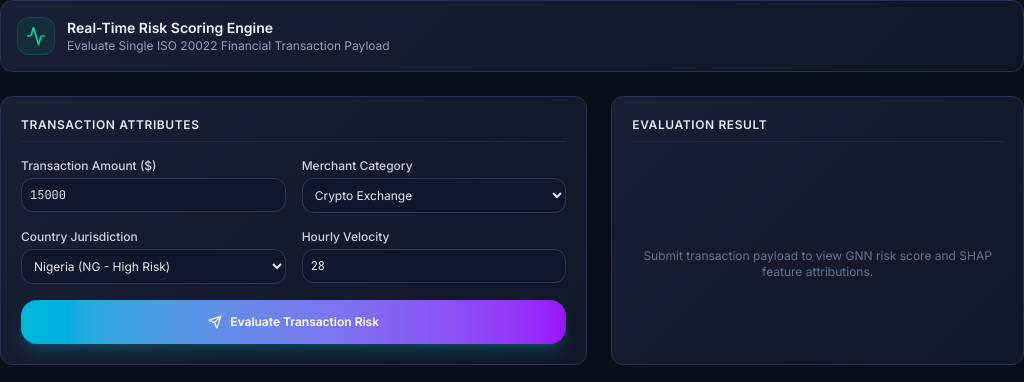
it: Predictor Component (User Interaction) › allows user to change form values and submit transaction for risk scoring
Replace the text in the number field showing "15000" below "Transaction Amount ($)" with "25000": (153, 195) [21,178,286,212]
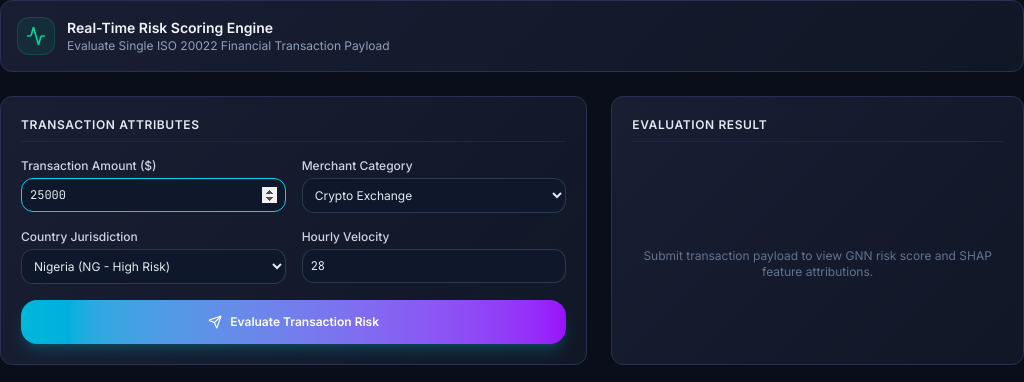
Click the button "Evaluate Transaction Risk": (294, 322) [21,300,566,344]
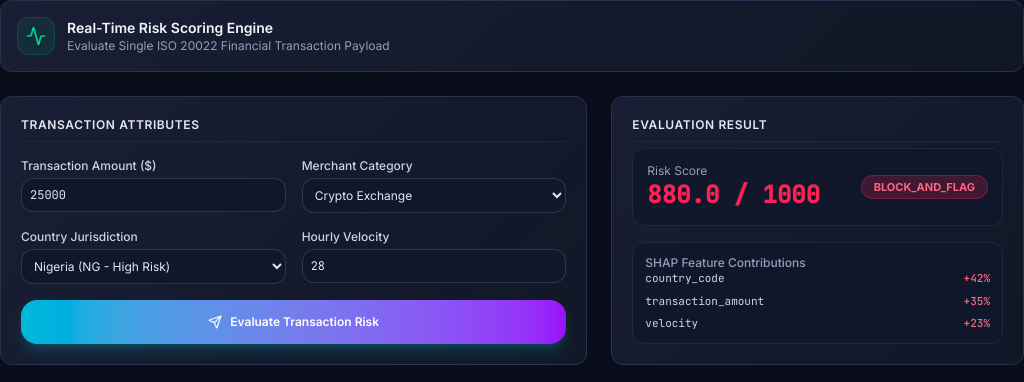
expect the text "880.0 / 1000" is shown: met, box [647,179,820,211]
expect the text "BLOCK_AND_FLAG" is shown: met, box [861,175,988,199]
expect the text "SHAP Feature Contributions" is shown: met, box [645,255,806,270]
